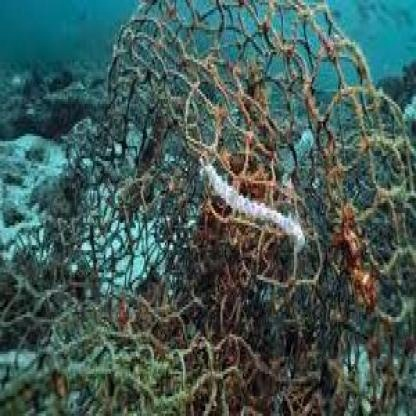net: (38, 2, 414, 416)
